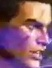kevin: (3, 0, 49, 67)
